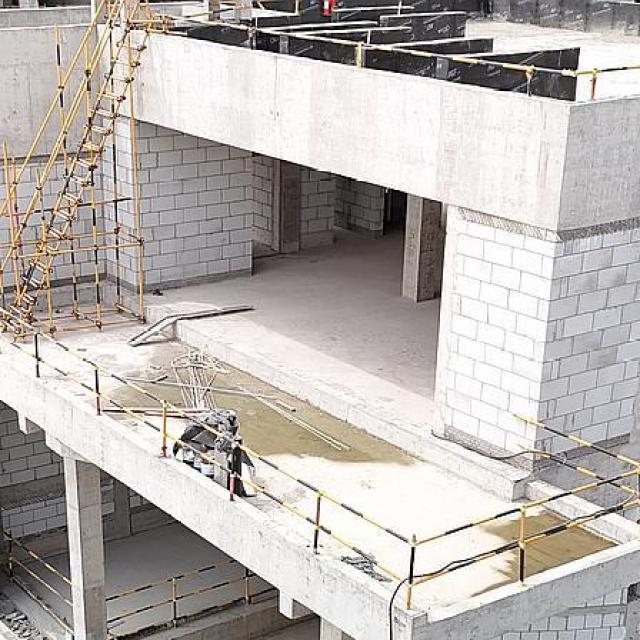edge_guardrail: (0, 305, 640, 609), (154, 12, 629, 99), (105, 558, 276, 639), (1, 530, 76, 639)
